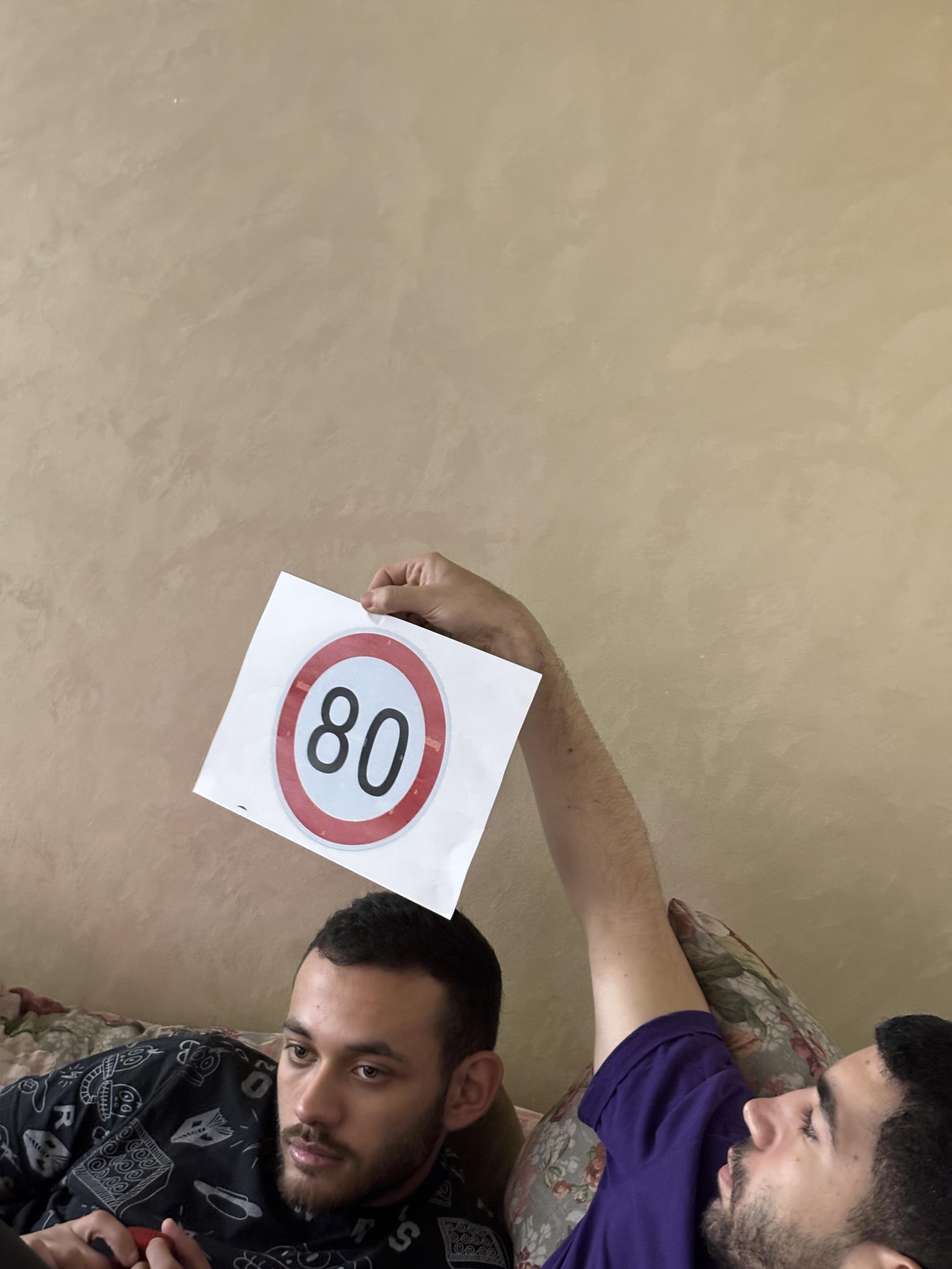80-Speed: (271, 621, 445, 848)
